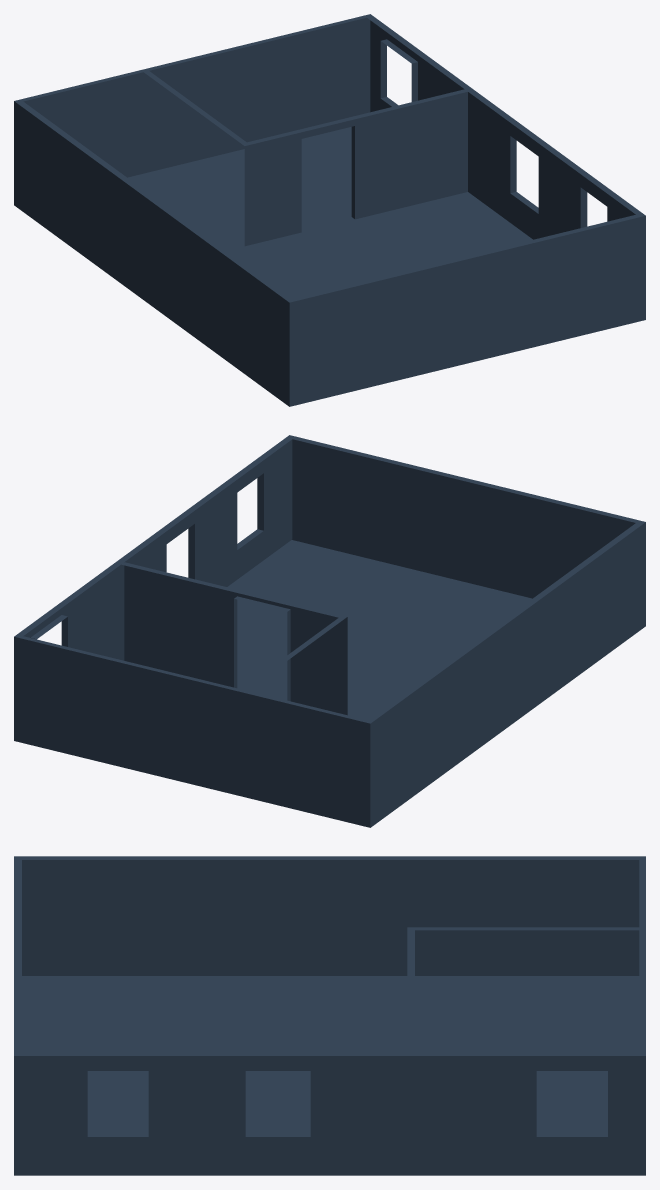
File: Appartment_01.fbx
3 views of the same model, one above another, from view 1: azimuth 30°, elevation 25°; view 2: azimuth 150°, elevation 25°; view 3: azimuth 270°, elevation 25° (orthographic). The views are drawn at different scales.
Parts seen in each view (by area): view 1: LivingRoomWalls.001; view 2: LivingRoomWalls.001; view 3: LivingRoomWalls.001.
Boxes of the visible parts, x1,y1,x2,y2 form: LivingRoomWalls.001: (14, 14, 645, 406); LivingRoomWalls.001: (14, 435, 645, 827); LivingRoomWalls.001: (14, 856, 645, 1175).
Bounding box in the file's own units: 600 × 168 × 803.
